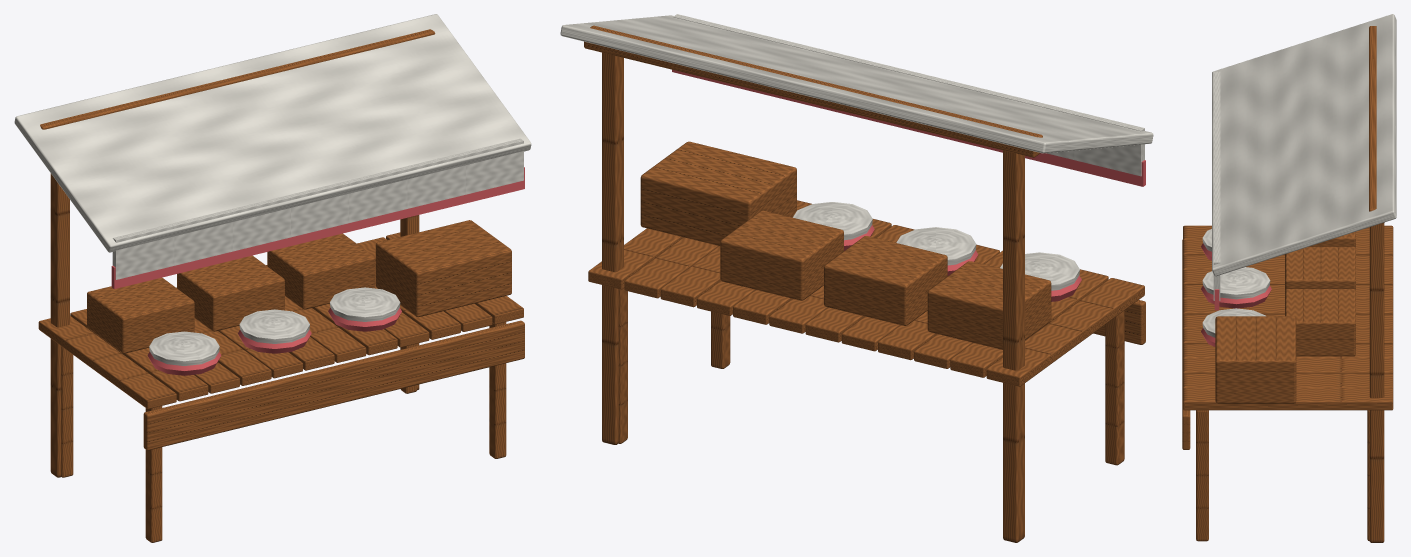
The model's file is stall_roof.glb.
3 renders of one model, left to right at view 1: azimuth 30°, elevation 25°; view 2: azimuth 150°, elevation 25°; view 3: azimuth 270°, elevation 25°, orthographic. The views are drawn at different scales.
Visible parts, largest first — view 1: market-stall-with-awning; view 2: market-stall-with-awning; view 3: market-stall-with-awning.
Boxes of the visible parts, left/top/right/bottom form: market-stall-with-awning: left=14, top=14, right=531, bottom=542; market-stall-with-awning: left=560, top=14, right=1153, bottom=542; market-stall-with-awning: left=1182, top=14, right=1396, bottom=542.
Size of the model in its own units: 2.9 by 2.36 by 1.33.
3 materials, 2 textured.
